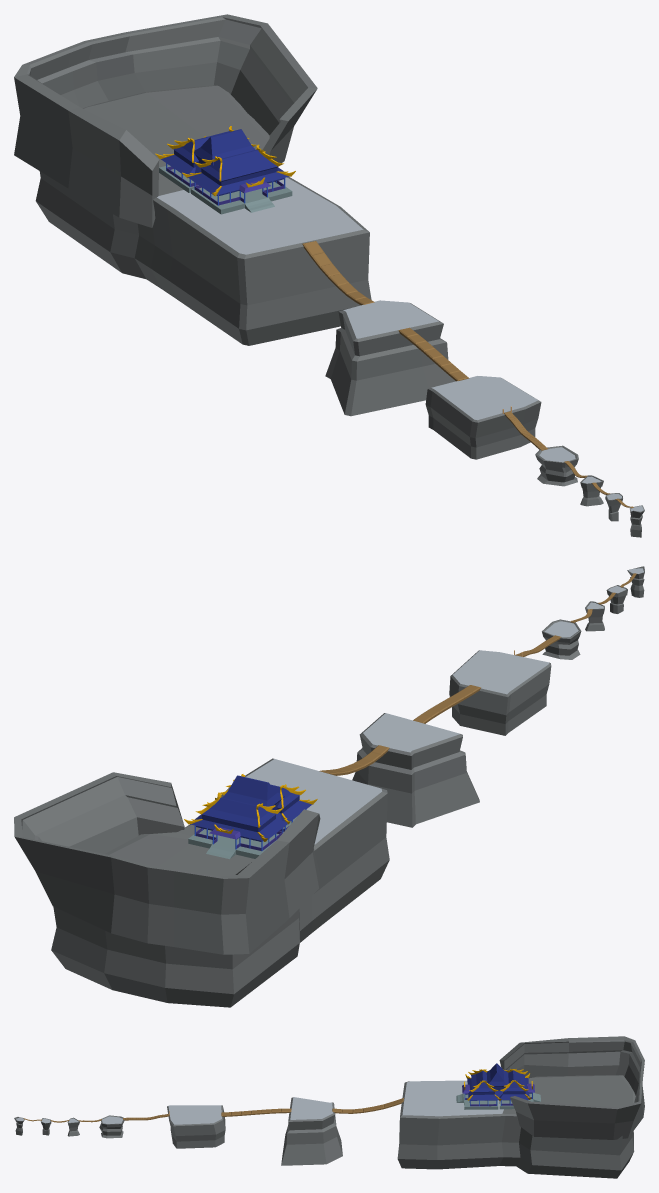
File: SeiryuStage1.fbx
The picture shows the model from 3 angles, top to bottom: view 1: azimuth 30°, elevation 25°; view 2: azimuth 150°, elevation 25°; view 3: azimuth 270°, elevation 25°; orthographic projection. The views are drawn at different scales.
Visible parts, largest first — view 1: Cube.034, Cube.019, Cube.017, Cube.032, Cube.033, Cube.008, Cube.030, Plane.002, Cube.031, Cube.009, Plane.007, Cube.018 (+3 smaller); view 2: Cube.034, Cube.019, Cube.017, Cube.032, Cube.008, Cube.033, Cube.030, Plane.006, Cube.031, Cube.002, Plane.007, Cube.004 (+3 smaller); view 3: Cube.019, Cube.034, Cube.033, Cube.017, Cube.032, Cube.008, Cube.030, Cube.031, Plane.002, Plane.006, Plane.007, Cube.009 (+3 smaller).
Boxes of the visible parts, box(x1,y1,x2,y2) form: Cube.034: box(14, 14, 317, 227); Cube.019: box(35, 85, 371, 345); Cube.017: box(325, 303, 455, 416); Cube.032: box(157, 177, 363, 254); Cube.033: box(84, 85, 267, 174); Cube.008: box(425, 379, 541, 459); Cube.030: box(431, 376, 537, 420); Plane.002: box(188, 149, 289, 195); Cube.031: box(343, 300, 438, 338); Cube.009: box(191, 182, 292, 214); Plane.007: box(194, 129, 255, 173); Cube.018: box(302, 241, 374, 305); Cube.034: box(14, 772, 320, 954); Cube.019: box(51, 758, 389, 1007); Cube.017: box(352, 713, 479, 827); Cube.032: box(245, 759, 381, 844); Cube.008: box(449, 650, 551, 735); Cube.033: box(109, 834, 254, 876); Cube.030: box(453, 650, 549, 694); Plane.006: box(190, 797, 287, 841); Cube.031: box(363, 713, 459, 752); Cube.002: box(188, 829, 278, 859); Plane.007: box(222, 775, 284, 820); Cube.004: box(542, 619, 581, 659); Cube.019: box(397, 1075, 635, 1178); Cube.034: box(499, 1036, 644, 1139); Cube.033: box(531, 1075, 632, 1107); Cube.017: box(281, 1097, 342, 1165); Cube.032: box(402, 1080, 503, 1116); Cube.008: box(167, 1105, 225, 1148); Cube.030: box(168, 1105, 221, 1124); Cube.031: box(290, 1097, 332, 1119); Plane.002: box(467, 1070, 498, 1100); Plane.006: box(499, 1070, 529, 1100); Plane.007: box(486, 1063, 508, 1097); Cube.009: box(456, 1093, 498, 1109).
Size of the model in its own units: 63.94 by 36.45 by 238.
